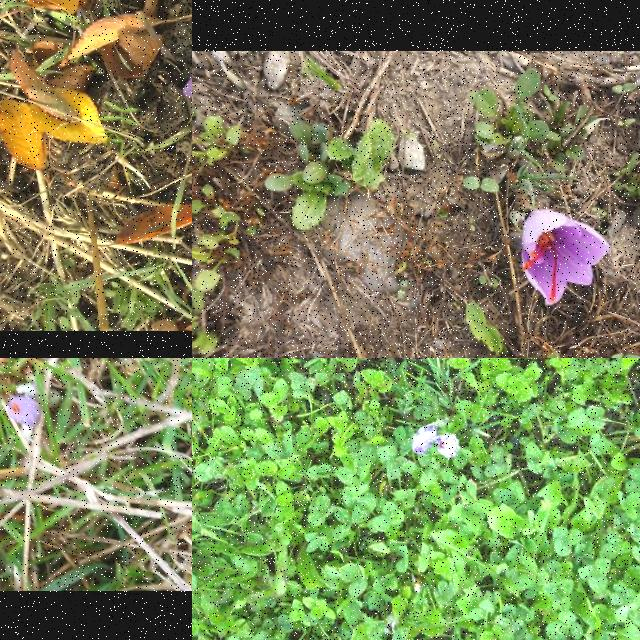flower: (521, 208, 611, 306), (8, 396, 42, 424), (412, 426, 436, 456), (438, 434, 460, 458)
